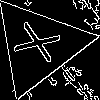X: (13, 20, 71, 68)
